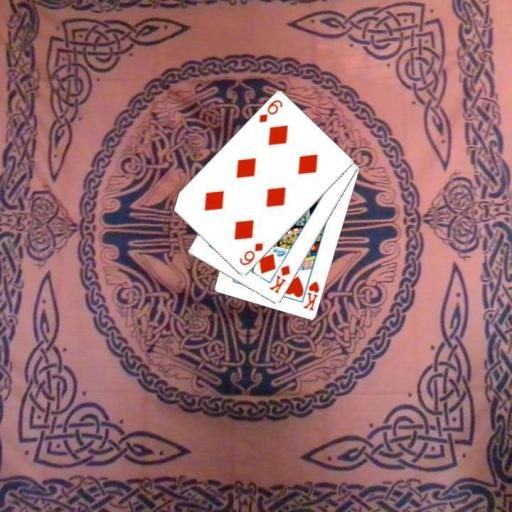card-corner: (266, 262, 292, 295), (236, 240, 265, 267), (255, 97, 284, 124), (300, 278, 321, 312)
